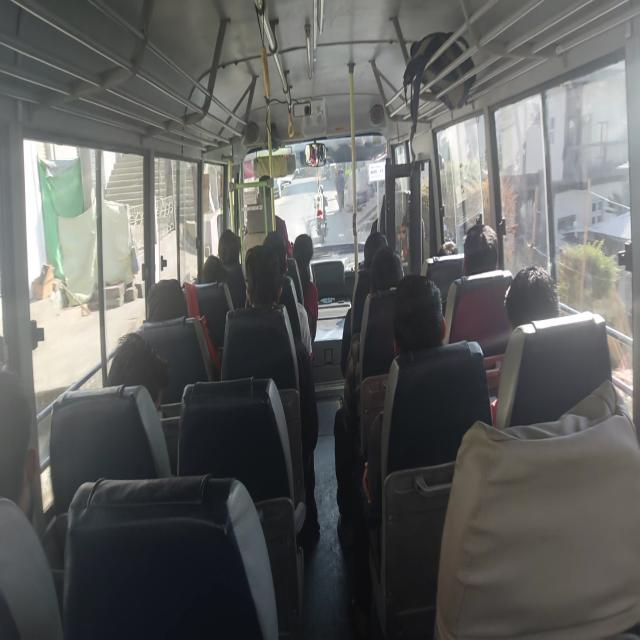person: (350, 274, 446, 634), (243, 244, 320, 537), (334, 244, 404, 547), (0, 370, 63, 638), (487, 264, 560, 401), (341, 231, 388, 377), (262, 230, 313, 360), (0, 369, 37, 518), (106, 331, 170, 413), (504, 264, 559, 330), (292, 233, 319, 342), (218, 229, 246, 309), (461, 222, 499, 276), (334, 167, 346, 211)
